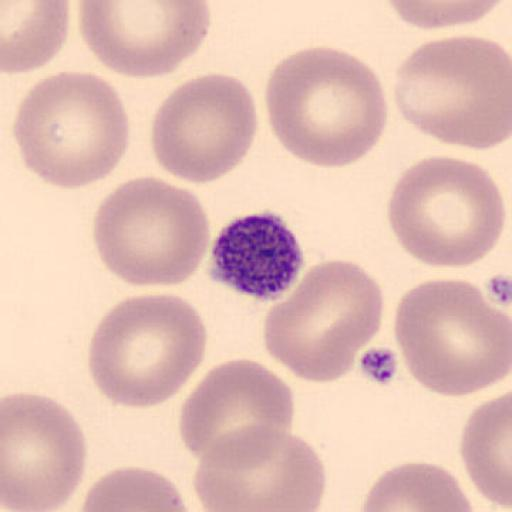Platelet: (205, 208, 307, 303)
RBC: (264, 45, 389, 171), (263, 258, 386, 384), (10, 69, 132, 191), (86, 291, 208, 410), (392, 277, 510, 399), (392, 33, 512, 152), (386, 152, 507, 270), (91, 174, 212, 288), (178, 356, 296, 469), (149, 72, 259, 186), (194, 421, 327, 512), (77, 0, 212, 79), (2, 390, 89, 511), (192, 422, 284, 512), (459, 390, 512, 511), (358, 460, 475, 512), (78, 465, 192, 512), (2, 0, 71, 75), (382, 0, 508, 31)
